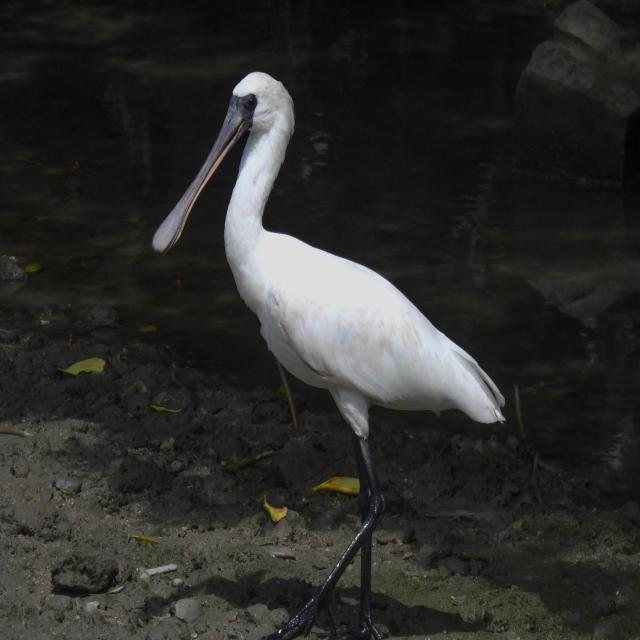Black-faced spoonbill: (153, 73, 504, 639)
